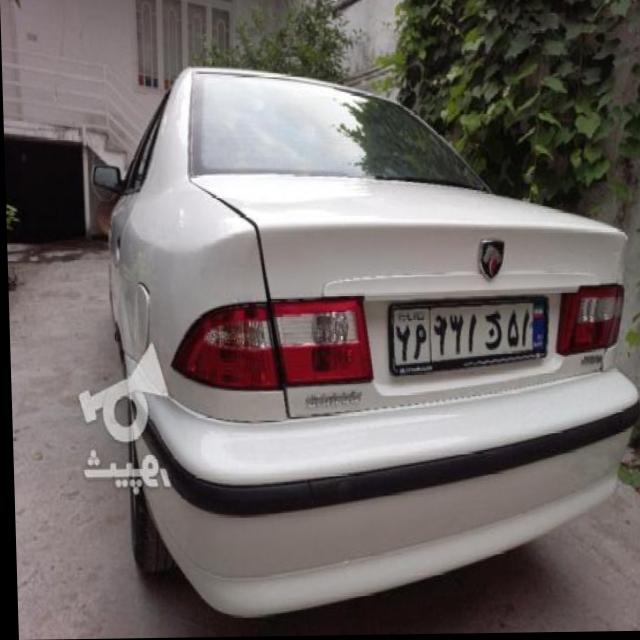licence: (385, 293, 551, 374)
